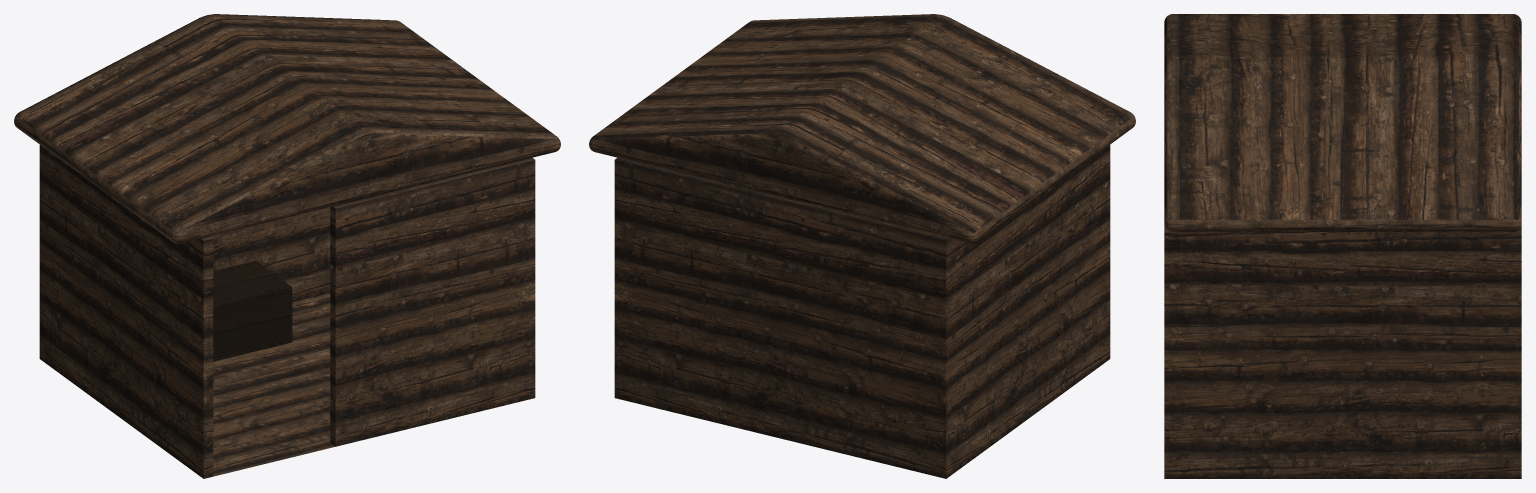
File: cabane.gltf
3 views of the same model, side by side, from view 1: azimuth 30°, elevation 25°; view 2: azimuth 150°, elevation 25°; view 3: azimuth 270°, elevation 25° (orthographic). The views are drawn at different scales.
Parts seen in each view (by area): view 1: Cube; view 2: Cube; view 3: Cube.
Part boxes in pixels (x1=…): Cube: x1=14, y1=14, x2=560, y2=478; Cube: x1=589, y1=14, x2=1135, y2=478; Cube: x1=1164, y1=14, x2=1521, y2=478.
Bounding box in the file's own units: 4.1 × 3.08 × 3.
Materials: 2 (2 with a texture image).
